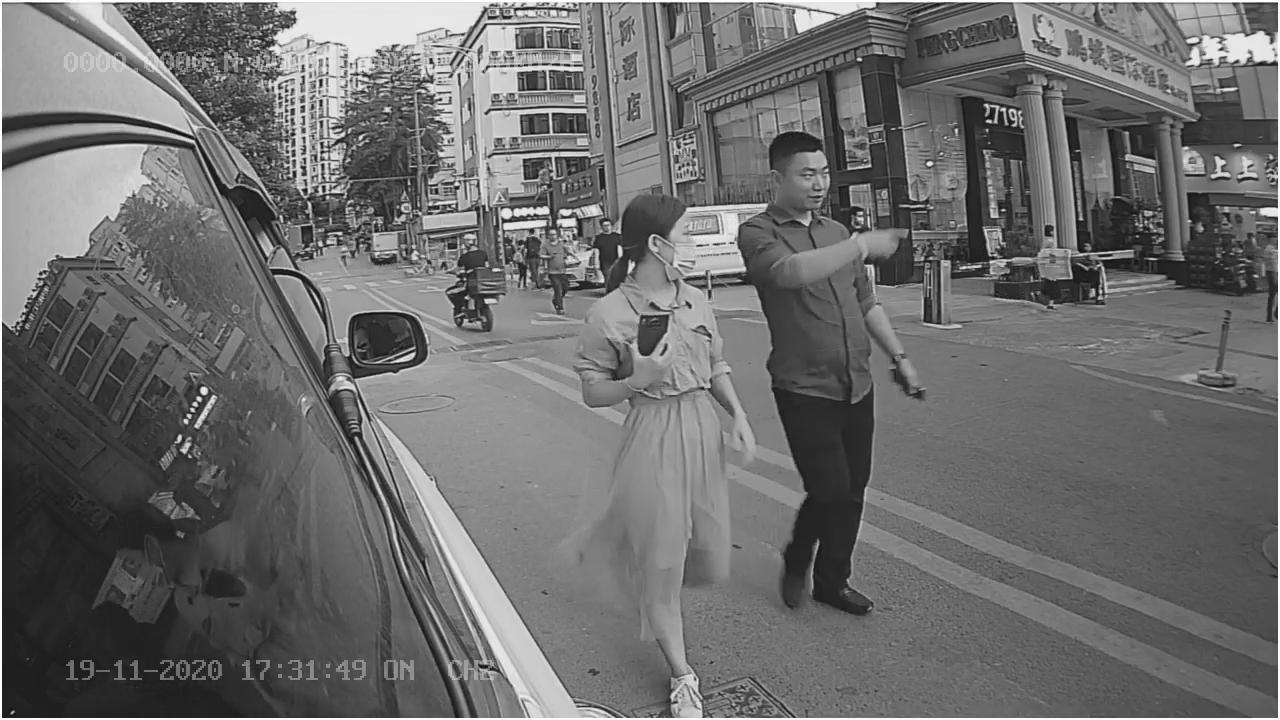person: (576, 192, 760, 678)
